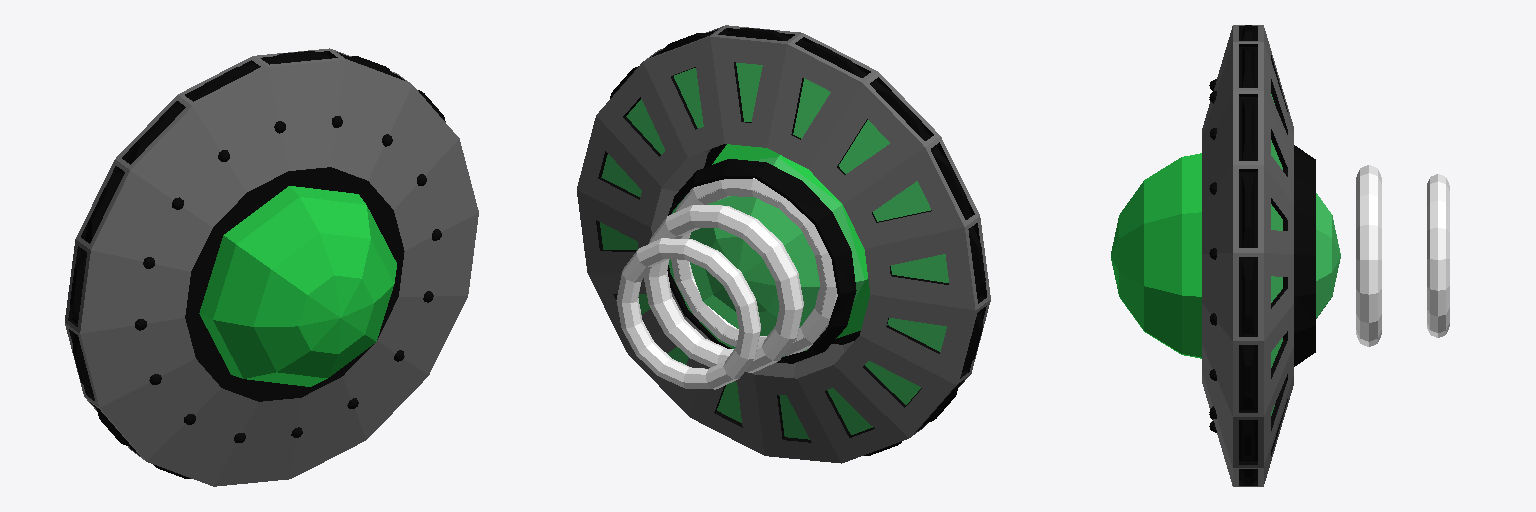
The model's file is ufo-1.obj.
3 renders of one model, left to right at view 1: azimuth 30°, elevation 25°; view 2: azimuth 150°, elevation 25°; view 3: azimuth 270°, elevation 25°, orthographic.
Parts seen in each view (by area): view 1: Body_Cylinder; view 2: Body_Cylinder; view 3: Body_Cylinder.
Part boxes in pixels (x1,y1,x2,y2): Body_Cylinder: (65,48,478,486); Body_Cylinder: (577,25,990,463); Body_Cylinder: (1111,25,1449,486).
Bounding box in the file's own units: 5.01 × 5.03 × 3.67.